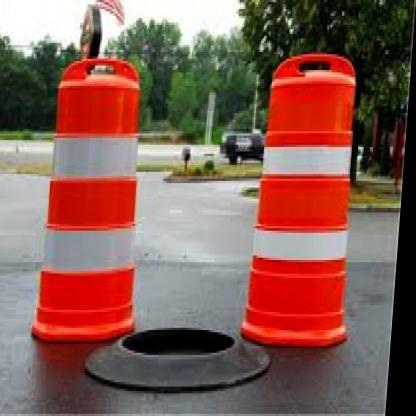obstacle: (239, 47, 378, 360), (31, 46, 151, 350)
